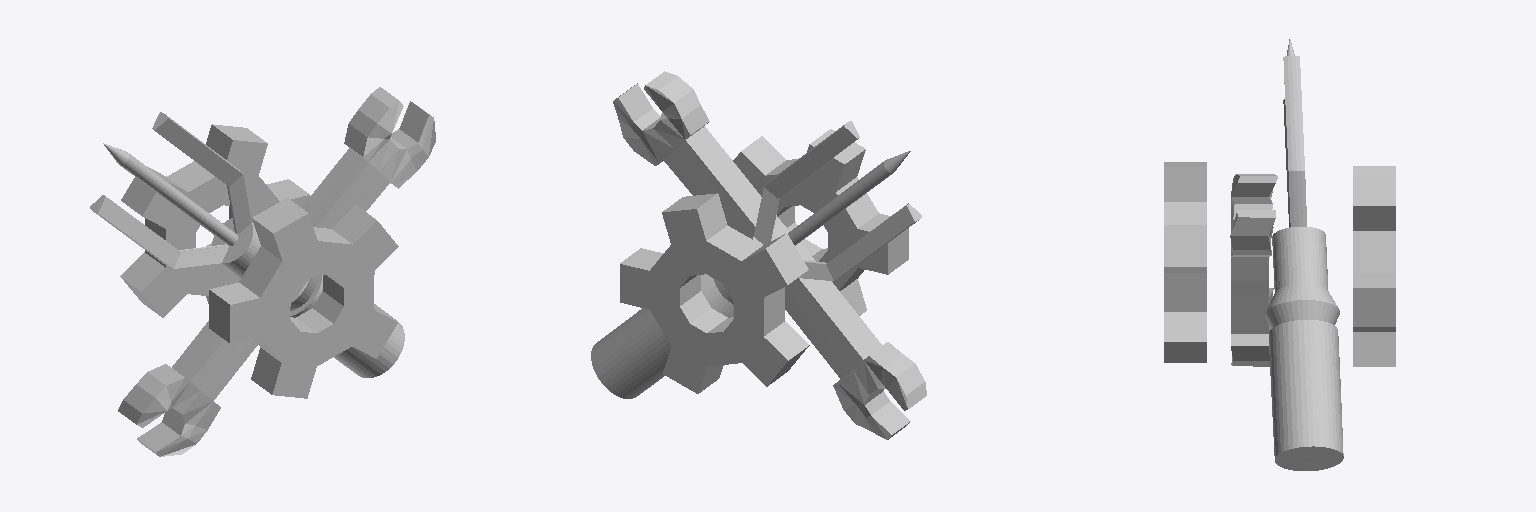
The model's file is healing2.obj.
3 views of the same model, side by side, from view 1: azimuth 30°, elevation 25°; view 2: azimuth 150°, elevation 25°; view 3: azimuth 270°, elevation 25° (orthographic).
Visible parts, largest first — view 1: Large_Heal_Cube.003; view 2: Large_Heal_Cube.003; view 3: Large_Heal_Cube.003.
Part boxes in pixels (x1,y1,x2,y2): Large_Heal_Cube.003: (90, 87, 435, 456); Large_Heal_Cube.003: (591, 71, 926, 439); Large_Heal_Cube.003: (1164, 39, 1395, 470).
Size of the model in its own units: 2.36 by 2.28 by 1.5.